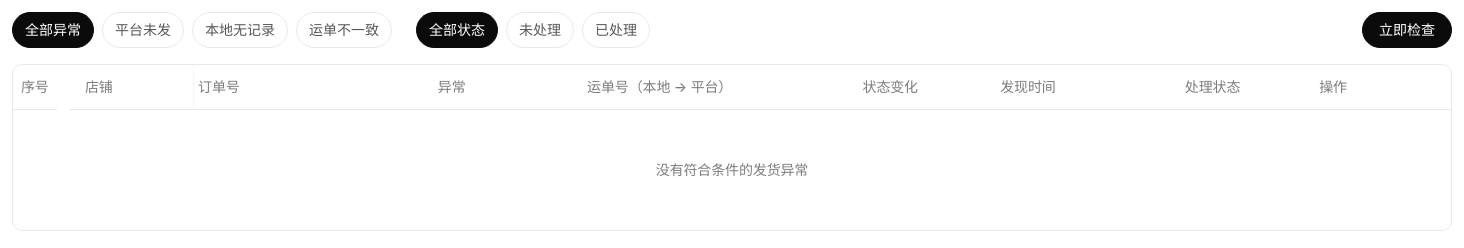
Scenario: 发货异常页的结果提示与控件 › 立即检查完成后结果发到右下角，只发一次
Later steps or results of the test are not shown.
Click the button "立即检查" at (1407, 30), box x1=1362 y1=12 x2=1452 y2=48
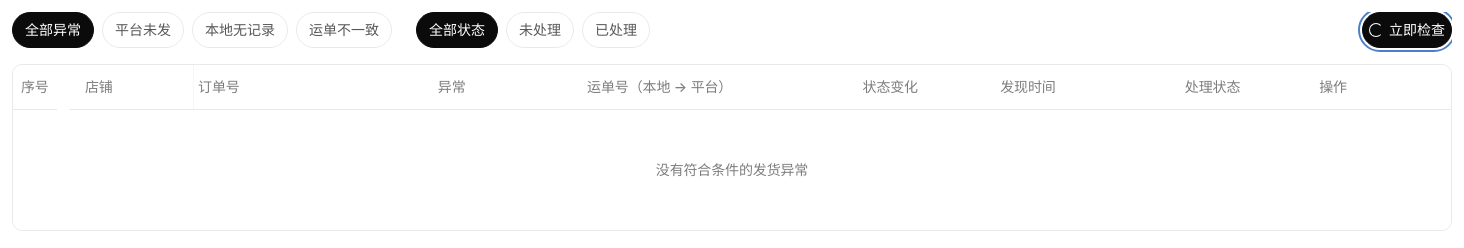
Result: the button "立即检查" has attribute aria-busy="true" at x1=1362 y1=12 x2=1452 y2=48
